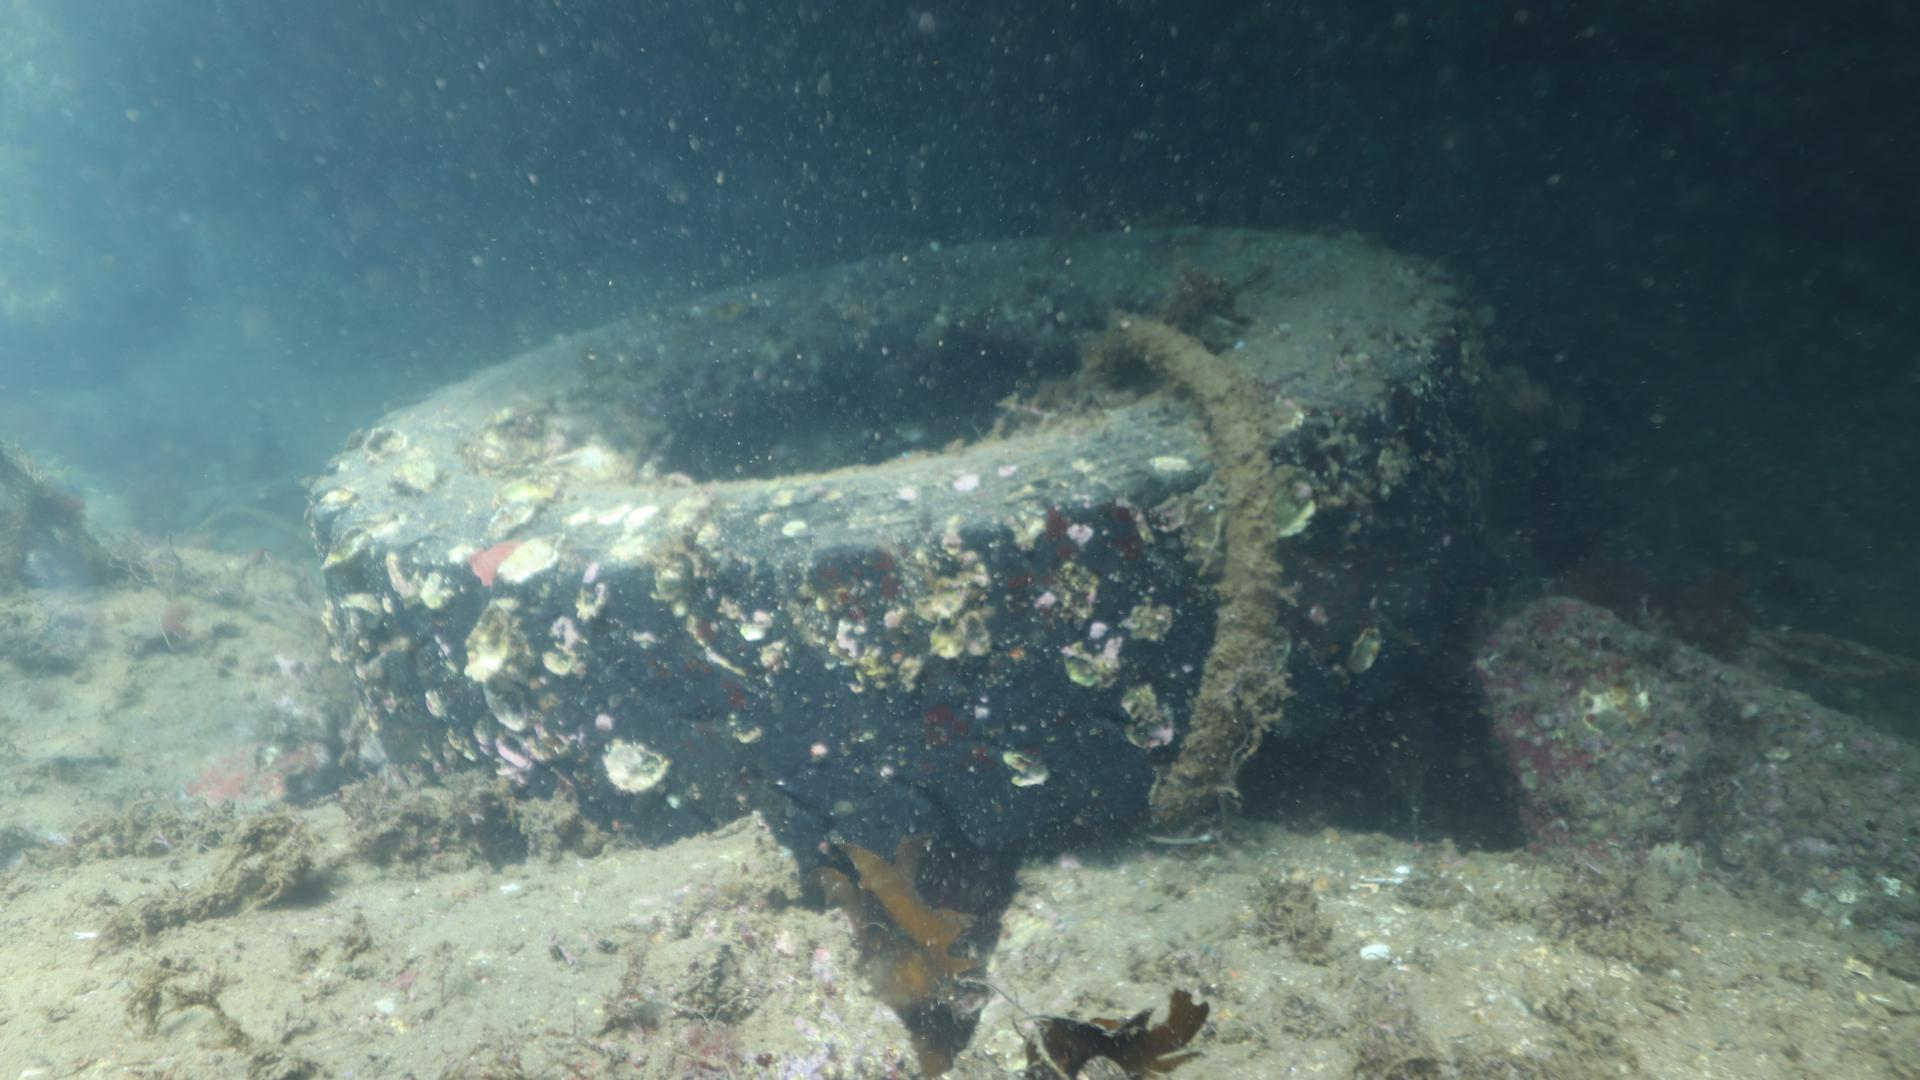rope: (1071, 309, 1295, 855)
tire: (294, 216, 1503, 881)
